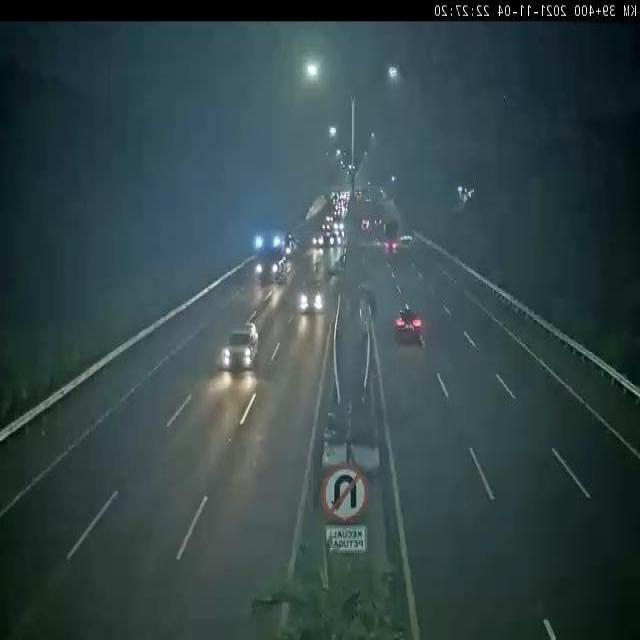Bus: (248, 230, 284, 286)
Car: (211, 311, 265, 377), (392, 305, 428, 346), (296, 280, 332, 320)
